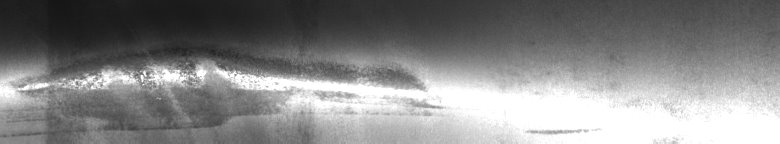ke: (4, 48, 443, 136)
